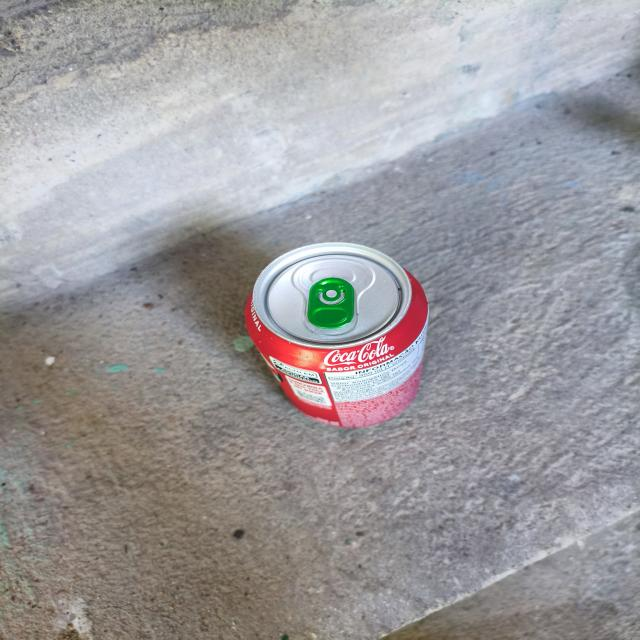Coca Cola: (244, 243, 426, 426)
